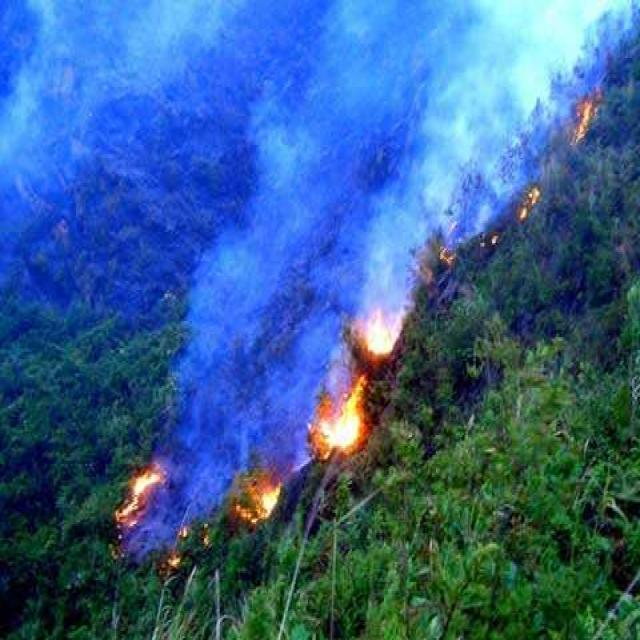Fire: (309, 375, 373, 461), (114, 468, 169, 530), (352, 308, 400, 357), (235, 477, 282, 526)
